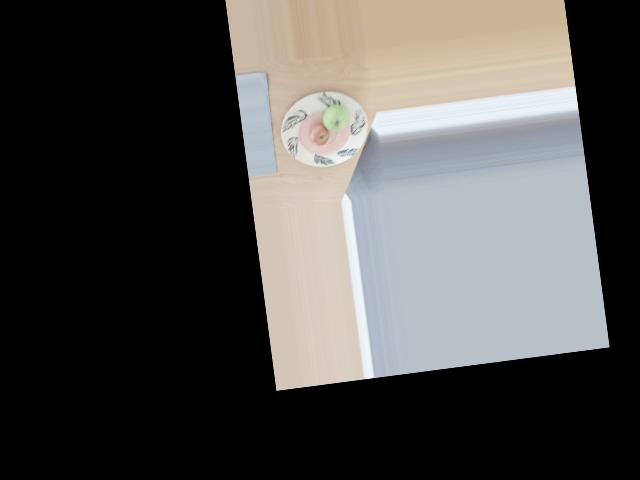apple: (320, 100, 352, 132)
